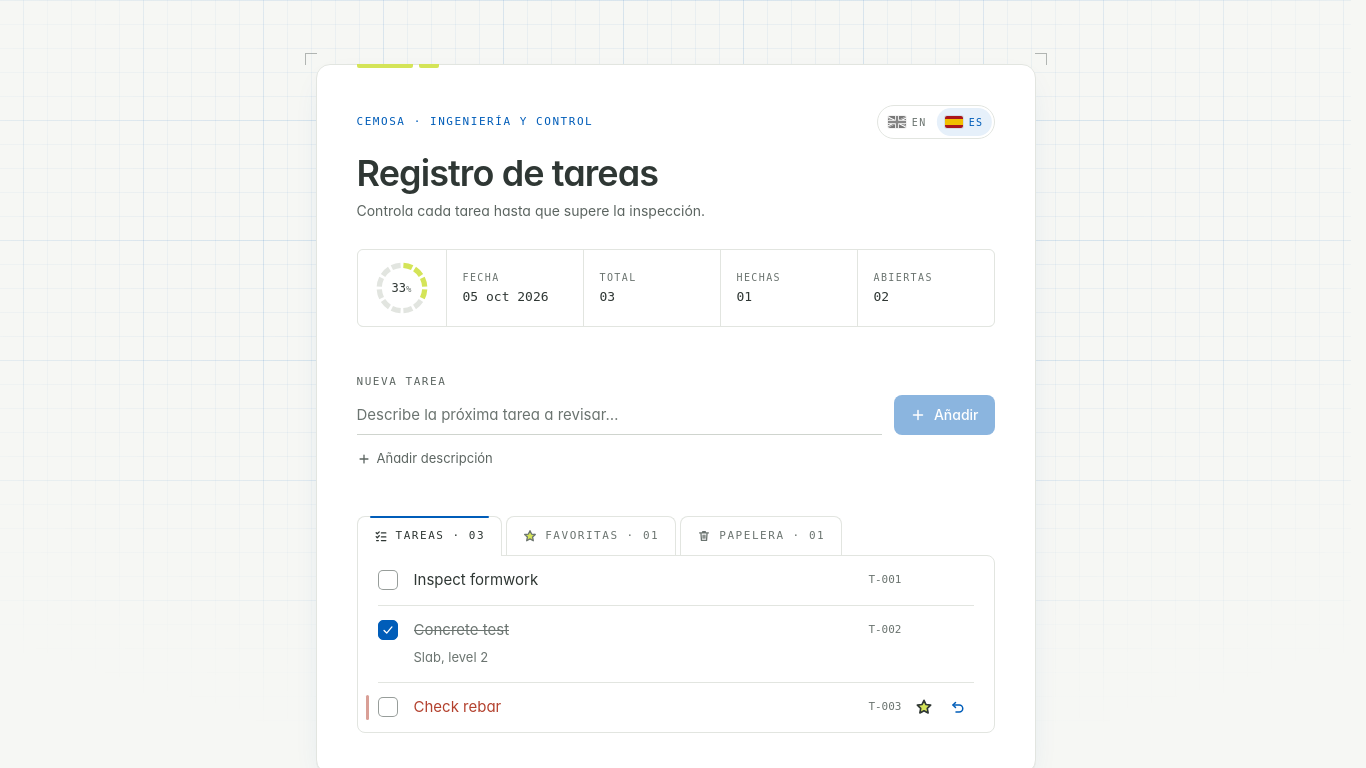
Scenario: trash (task 2) › says how many tasks emptying the trash deletes
Expected: the text "Inspect formwork" is shown, x1=414 y1=570 x2=538 y2=589
Click the tab "Papelera · 01" at [761, 536], box x1=680 y1=516 x2=842 y2=556
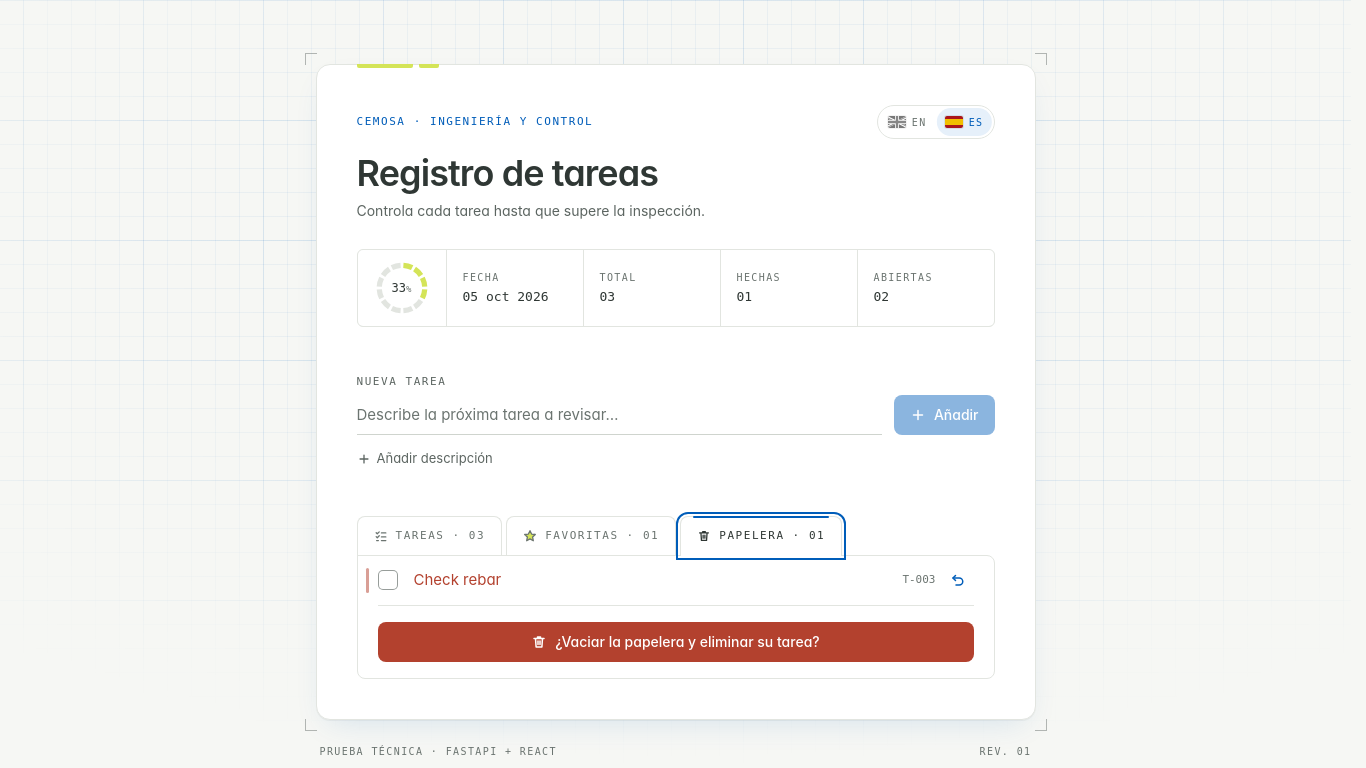
Expected: the button "¿Vaciar la papelera y eliminar su tarea?" is shown, x1=378 y1=622 x2=974 y2=662
